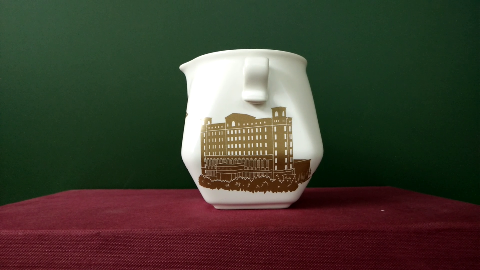law: (205, 118, 308, 189)
